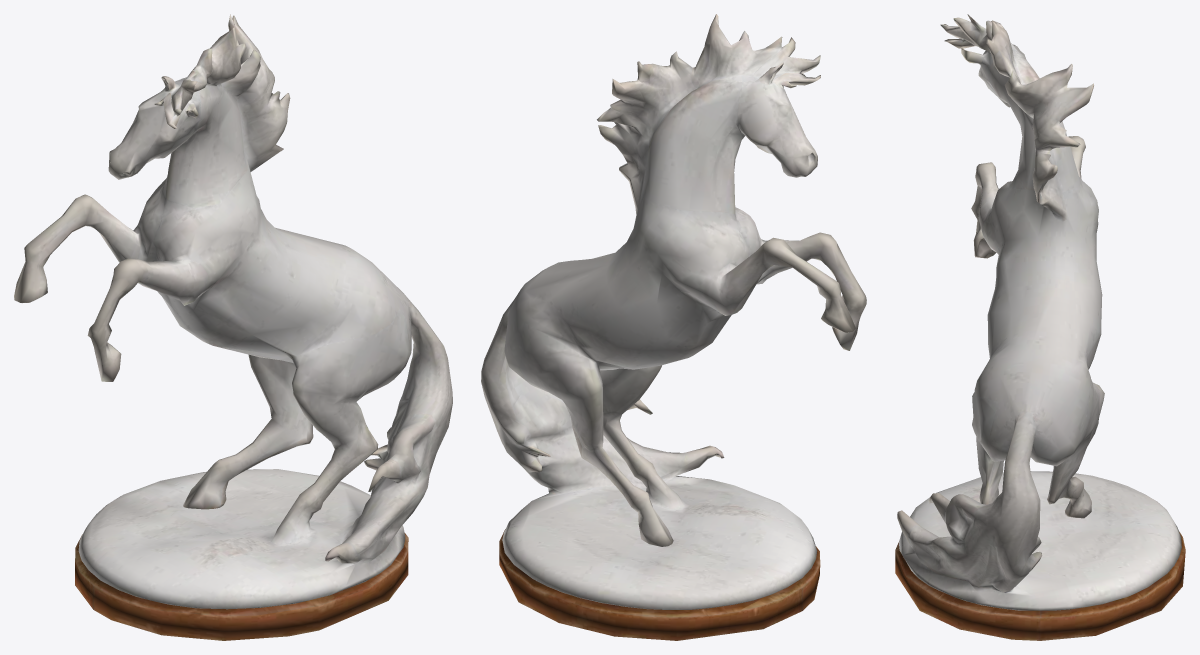
Rendered from horse_statue_01.glb.
3 views of the same model, side by side, from view 1: azimuth 30°, elevation 25°; view 2: azimuth 150°, elevation 25°; view 3: azimuth 270°, elevation 25° (orthographic). The views are drawn at different scales.
Visible parts, largest first — view 1: horse_statue_01; view 2: horse_statue_01; view 3: horse_statue_01.
Part boxes in pixels (x1,y1,x2,y2): horse_statue_01: (14, 14, 452, 640); horse_statue_01: (481, 14, 866, 640); horse_statue_01: (895, 14, 1185, 640).
Size of the model in its own units: 0.1638 by 0.22 by 0.1078.
Materials: 1 (1 with a texture image).
